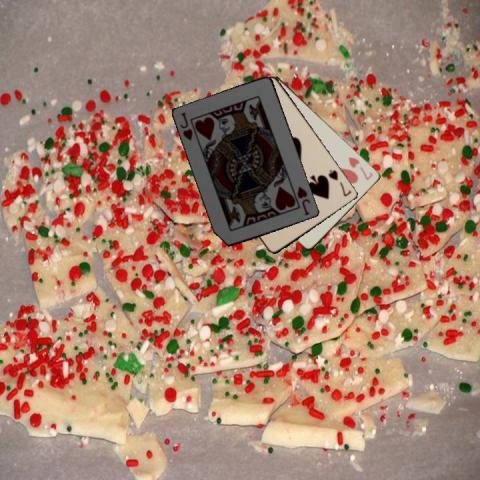7h: (345, 154, 375, 181)
7s: (325, 167, 353, 198)
Jh: (177, 109, 199, 143), (294, 183, 312, 217)
